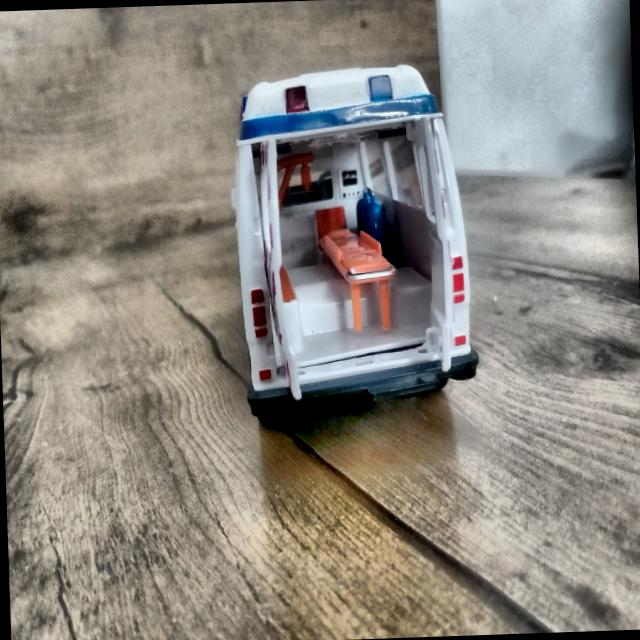Ambulance: (212, 47, 514, 458)
